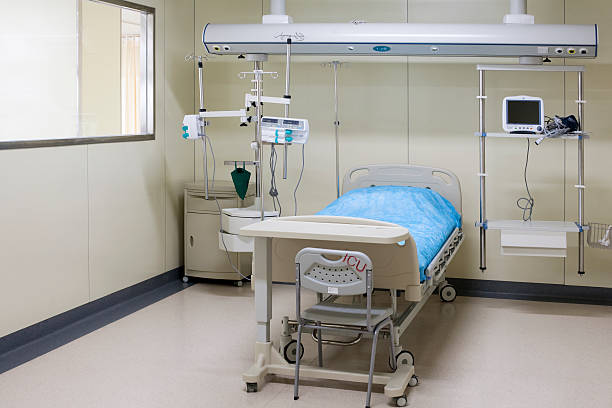bedside_monitor: (501, 95, 546, 135)
bedside_table: (184, 185, 255, 287)
chair: (292, 247, 396, 408)
foot_board: (247, 208, 427, 297)
hospital_bed: (241, 164, 463, 408)
infusion_pump: (260, 116, 310, 144), (181, 114, 205, 140)
iv_pole: (317, 54, 359, 205), (236, 70, 278, 220), (269, 28, 305, 103), (183, 51, 213, 110)
overbed_table: (240, 219, 419, 408)
